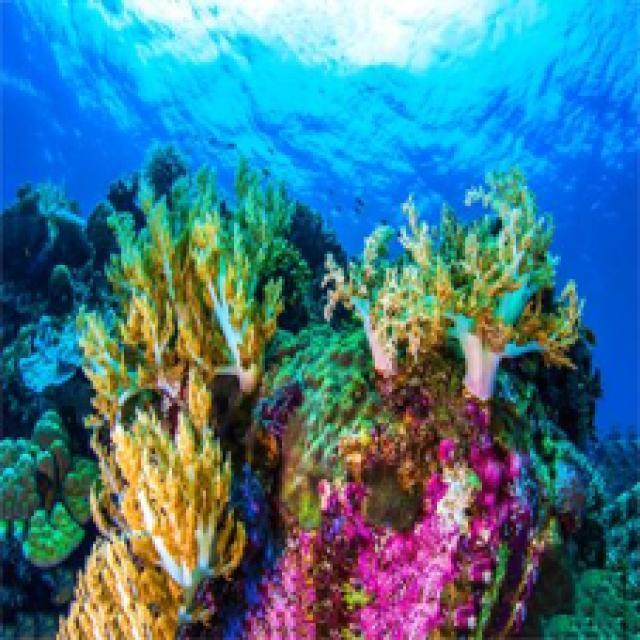Healthy: (92, 435, 230, 638), (255, 533, 510, 637), (127, 205, 277, 376), (453, 198, 567, 394), (347, 259, 446, 378), (430, 424, 523, 530), (98, 377, 216, 429)
